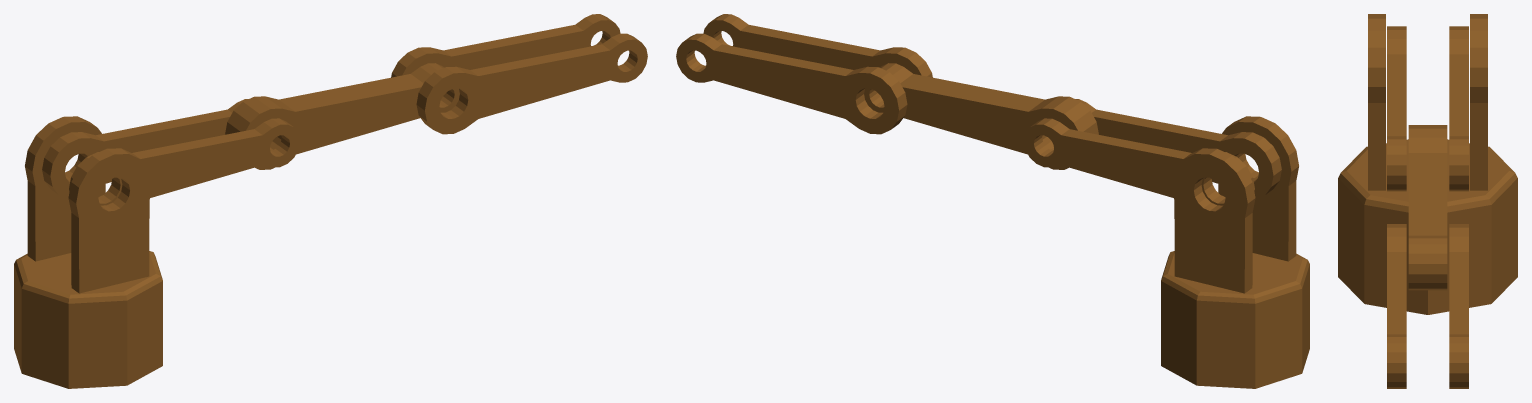
File: RobotArm.fbx
3 renders of one model, left to right at view 1: azimuth 30°, elevation 25°; view 2: azimuth 150°, elevation 25°; view 3: azimuth 270°, elevation 25°, orthographic. The views are drawn at different scales.
Visible parts, largest first — view 1: Base, J.002, J.000, J.001; view 2: Base, J.002, J.000, J.001; view 3: Base, J.000, J.001, J.002.
Boxes of the visible parts, box(x1,y1,x2,y2) form: Base: box(14, 116, 162, 388); J.002: box(391, 14, 647, 134); J.000: box(42, 99, 300, 205); J.001: box(225, 63, 459, 169); Base: box(1161, 116, 1309, 388); J.002: box(676, 14, 932, 134); J.000: box(1023, 99, 1281, 205); J.001: box(864, 63, 1098, 169); Base: box(1338, 14, 1517, 314); J.000: box(1387, 26, 1468, 191); J.001: box(1408, 125, 1447, 290); J.002: box(1387, 224, 1468, 388).
Bounding box in the file's own units: 2101 × 732 × 461.
